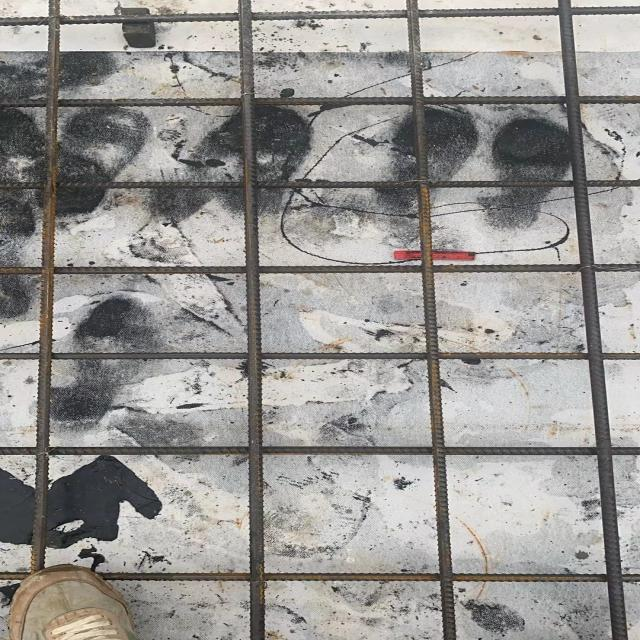ribbed bar: (554, 0, 630, 639), (403, 0, 457, 639), (237, 0, 267, 639), (28, 0, 61, 571), (0, 5, 639, 26), (0, 94, 639, 108), (0, 571, 639, 585), (0, 264, 639, 276), (0, 179, 639, 190), (0, 446, 639, 455), (0, 352, 639, 360)
